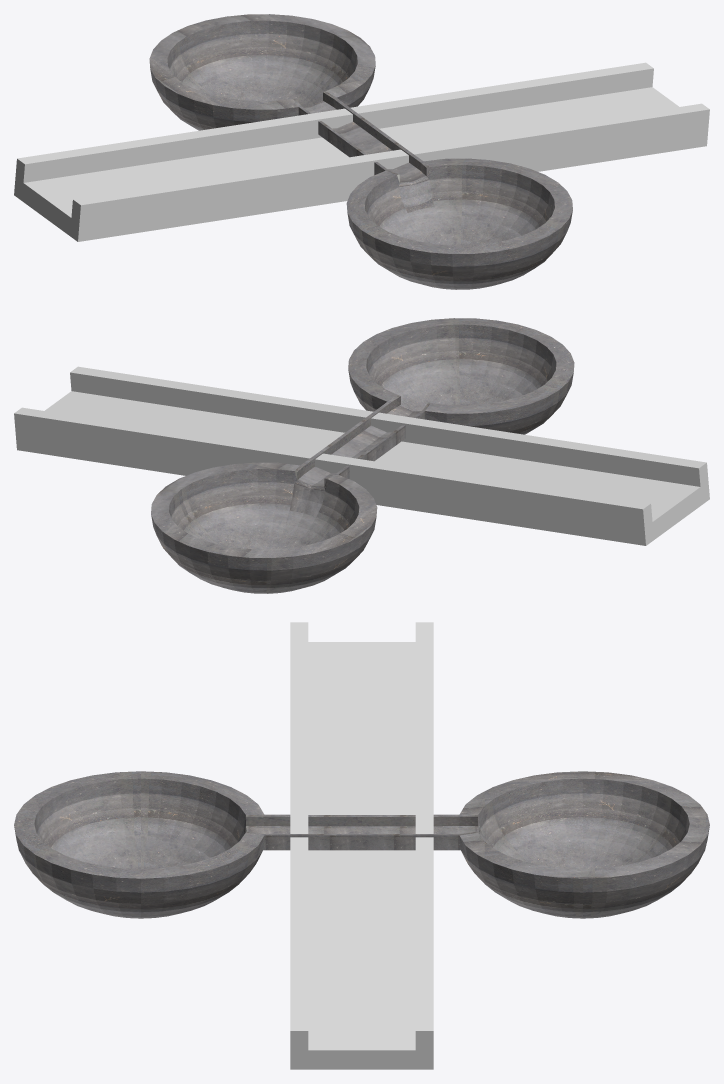
File: pista_prueba.dae
3 renders of one model, top to bottom at view 1: azimuth 30°, elevation 25°; view 2: azimuth 150°, elevation 25°; view 3: azimuth 270°, elevation 25°, orthographic. The views are drawn at different scales.
Parts seen in each view (by area): view 1: rampa, pista_prueba; view 2: rampa, pista_prueba; view 3: pista_prueba, rampa.
Boxes of the visible parts, <box> form: rampa: <box>14,62,709,241</box>; pista_prueba: <box>149,14,572,289</box>; rampa: <box>14,366,709,545</box>; pista_prueba: <box>151,318,574,593</box>; pista_prueba: <box>14,771,709,918</box>; rampa: <box>290,622,433,1069</box>.
Size of what is drawn, in the model's own units: 117 by 99.8 by 17.18.
